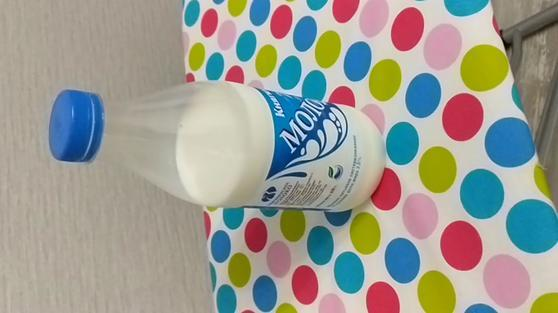milk: (40, 72, 397, 228)
